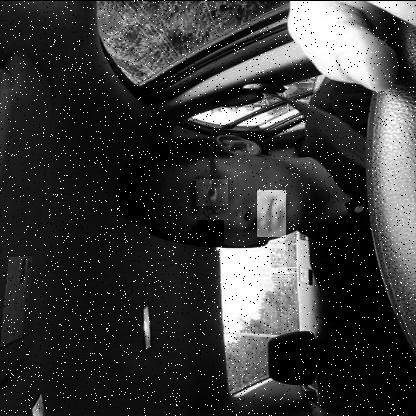seatbelt: (101, 72, 416, 264)
